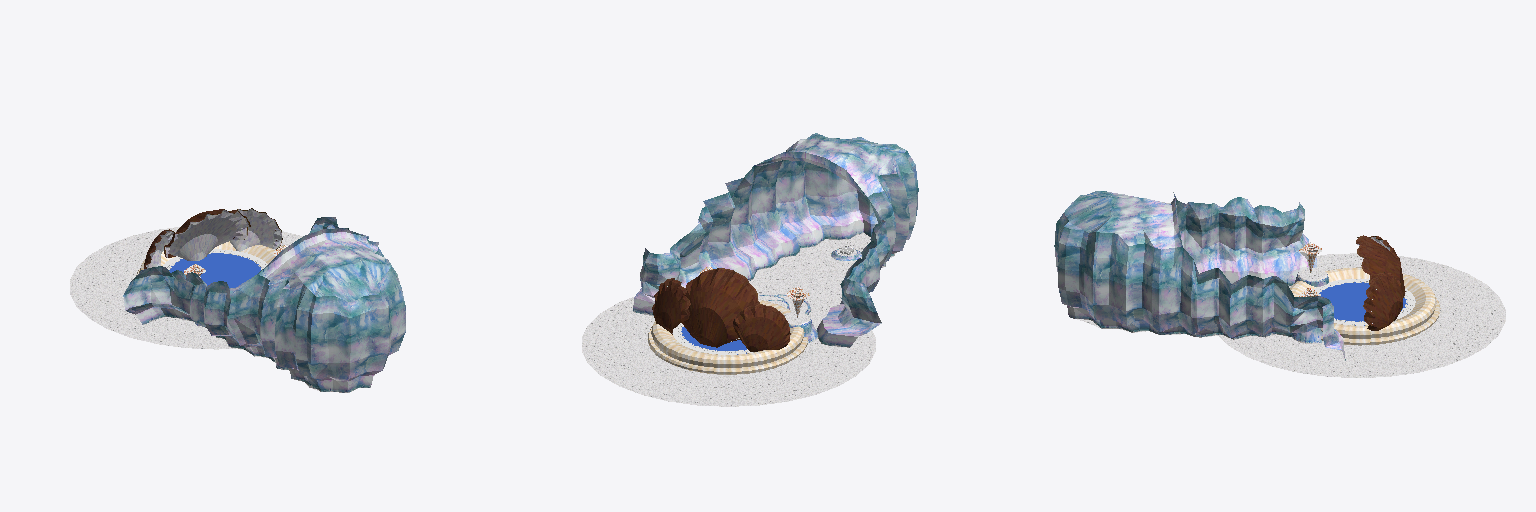
3 views of the same model, side by side, from view 1: azimuth 30°, elevation 25°; view 2: azimuth 150°, elevation 25°; view 3: azimuth 270°, elevation 25° (orthographic).
Parts seen in each view (by area): view 1: walls, sand, scallop_front, water, pool, scallop_back; view 2: walls, sand, scallop_back, pool; view 3: walls, sand, pool, scallop_back, water, shell_platforms.
Boxes of the visible parts, x1=… form: walls: x1=123, y1=217, x2=405, y2=392; sand: x1=70, y1=227, x2=374, y2=390; scallop_front: x1=146, y1=208, x2=282, y2=268; water: x1=169, y1=253, x2=260, y2=287; pool: x1=136, y1=241, x2=275, y2=275; scallop_back: x1=144, y1=209, x2=276, y2=268; walls: x1=633, y1=133, x2=918, y2=347; sand: x1=582, y1=233, x2=895, y2=406; scallop_back: x1=652, y1=268, x2=790, y2=351; pool: x1=648, y1=299, x2=807, y2=374; walls: x1=1054, y1=191, x2=1345, y2=360; sand: x1=1077, y1=253, x2=1505, y2=377; pool: x1=1290, y1=267, x2=1440, y2=345; scallop_back: x1=1356, y1=235, x2=1405, y2=330; water: x1=1319, y1=282, x2=1407, y2=325; shell_platforms: x1=1293, y1=272, x2=1328, y2=343.
Bounding box in the file's own units: 2785 × 1279 × 4242.
Materials: 14 (12 with a texture image).